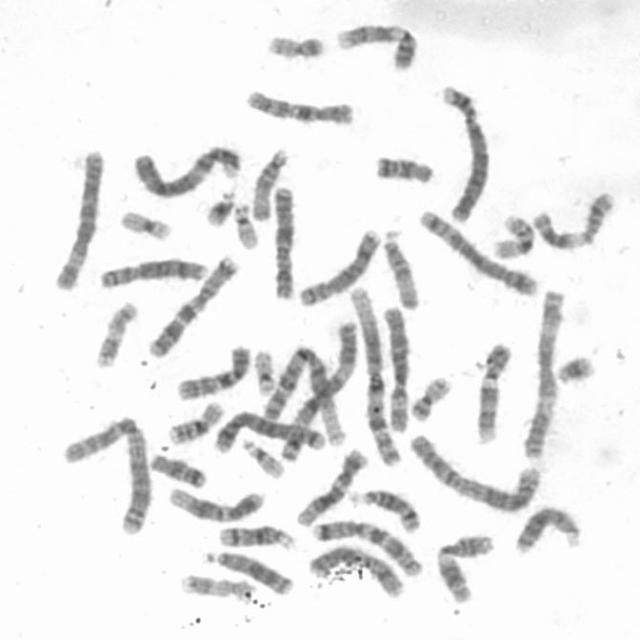A1: (343, 278, 405, 470), (260, 337, 352, 450)
A2: (56, 408, 155, 538), (403, 426, 544, 514)
A3: (272, 316, 361, 462), (516, 281, 570, 460)
B4: (434, 76, 494, 224), (126, 136, 245, 200)
B5: (413, 202, 540, 297), (206, 404, 330, 456)
C10: (170, 337, 254, 402), (238, 82, 357, 127)
C11: (527, 183, 618, 252), (431, 526, 498, 604)
C12: (290, 441, 370, 529), (162, 479, 268, 524)
C6: (46, 141, 108, 292), (377, 298, 413, 435)
C7: (142, 249, 242, 358), (304, 512, 425, 579)
C8: (291, 221, 384, 308), (94, 250, 210, 291)
C9: (330, 15, 420, 71), (470, 335, 515, 445)
D13: (198, 544, 296, 596), (508, 498, 586, 556)
D14: (344, 481, 423, 534), (213, 517, 298, 552)
D15: (377, 222, 423, 310), (246, 140, 291, 223)
E16: (161, 394, 227, 446), (486, 207, 537, 261)
E17: (89, 294, 140, 369), (174, 568, 254, 601)
E18: (143, 446, 208, 489), (369, 147, 437, 185)
F19: (114, 202, 176, 242), (248, 341, 278, 397)
F20: (404, 368, 455, 422), (260, 26, 328, 60)
G21: (550, 346, 599, 386), (199, 183, 238, 228)
G22: (236, 432, 288, 480), (228, 197, 262, 250)
X: (302, 539, 407, 599), (266, 179, 299, 301)
